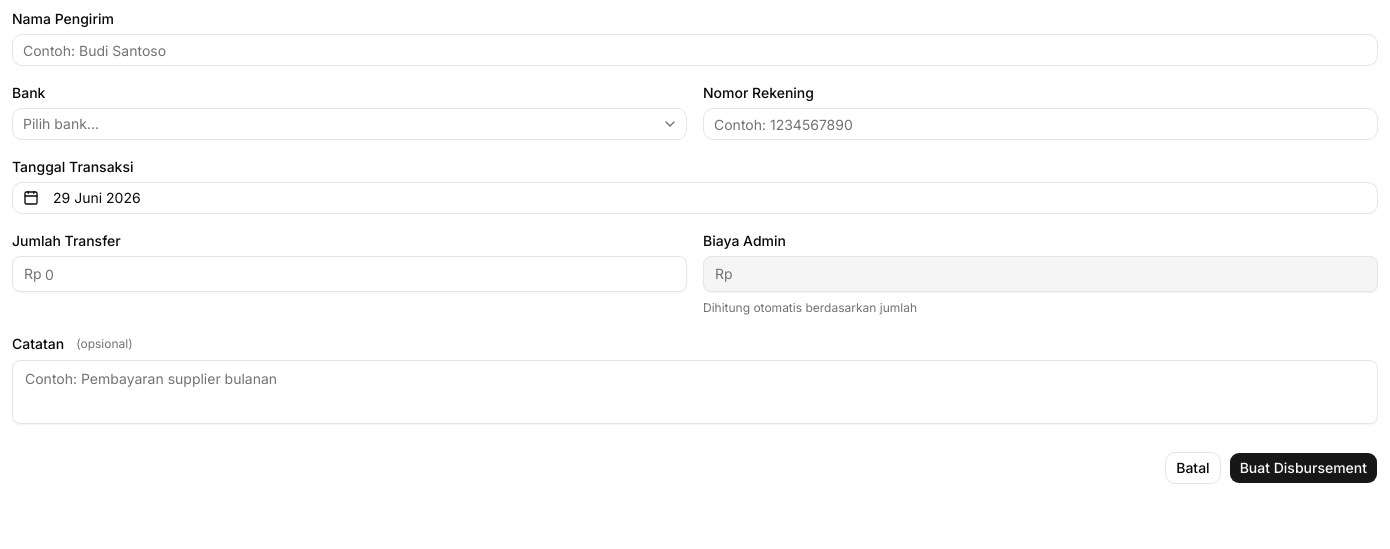
Test: DisbursementForm — validasi › amount = 9999 → tampilkan error "Minimal Rp 10.000"
Type "9999" into the field with placeholder "0" at [350, 274], box top-left (12, 256), bottom-right (687, 292)
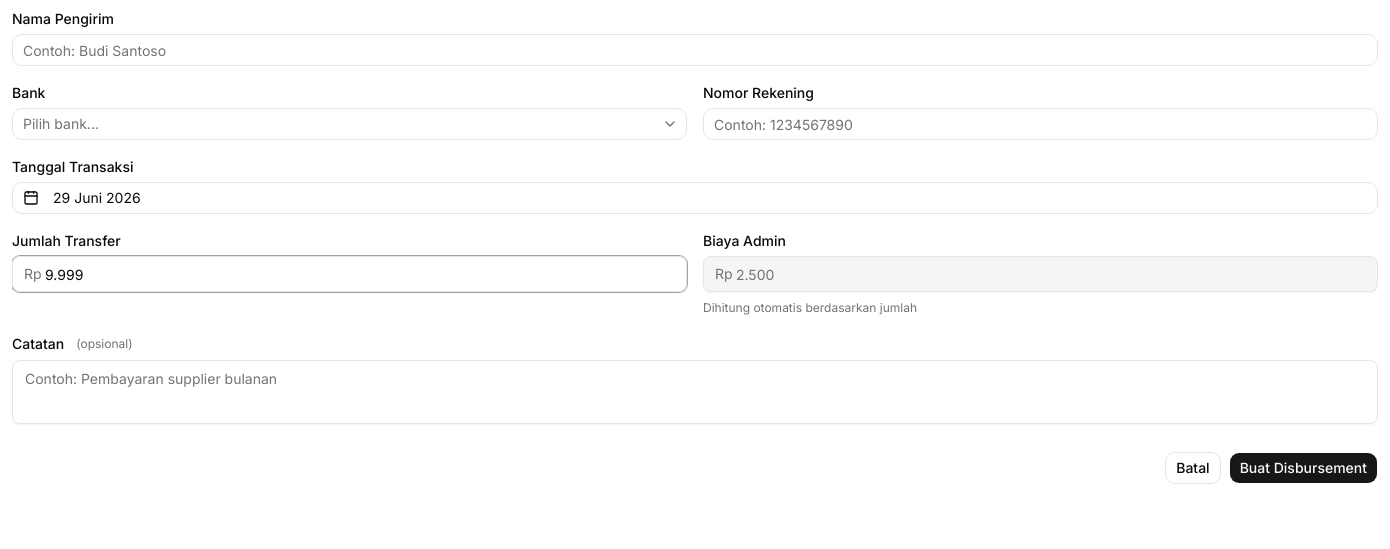
Click the button "Buat Disbursement" at [1303, 468], box top-left (1229, 452), bottom-right (1378, 484)
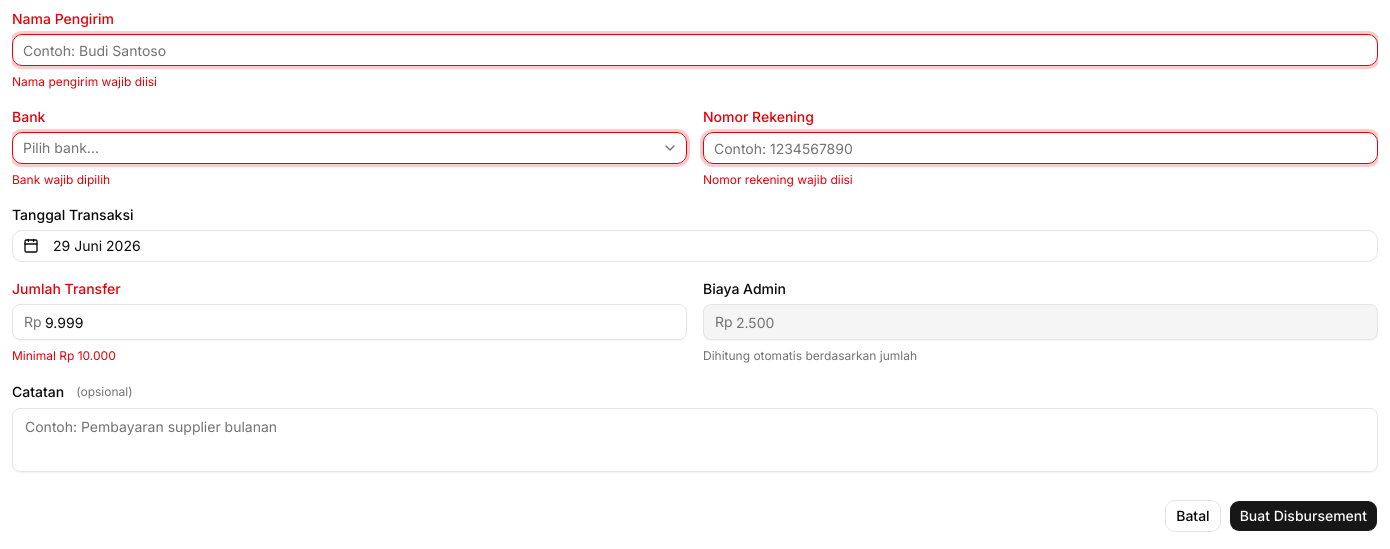
Check: the text "Minimal Rp 10.000" is shown, box top-left (12, 348), bottom-right (116, 363)
